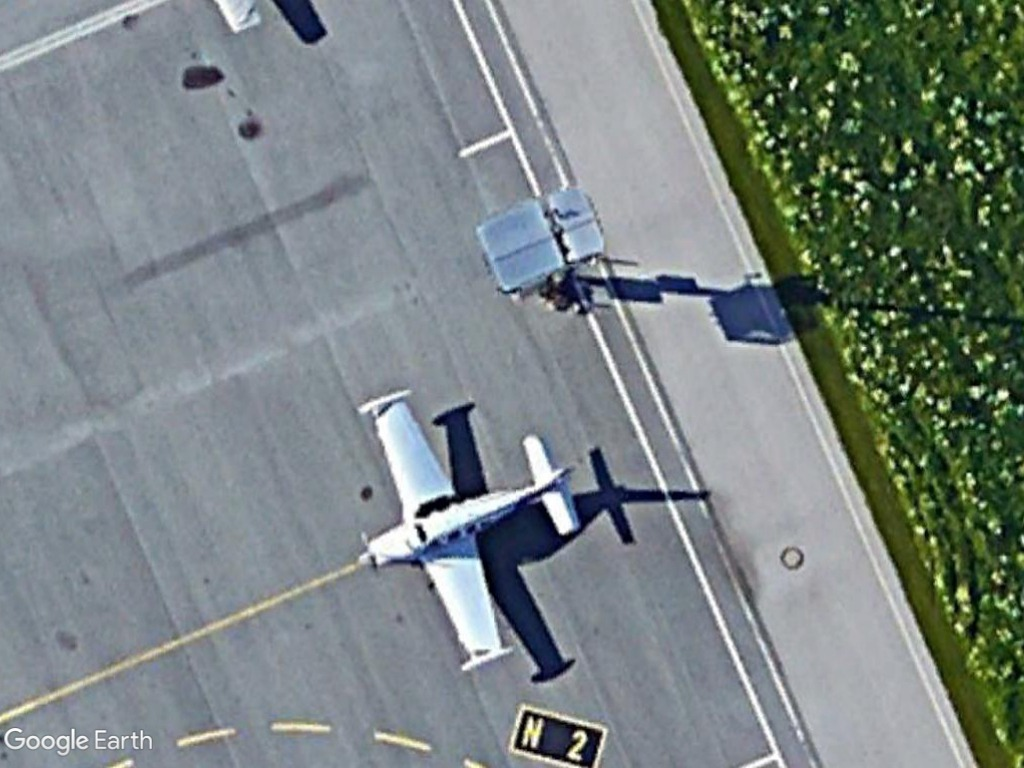trainer: (355, 385, 589, 678)
